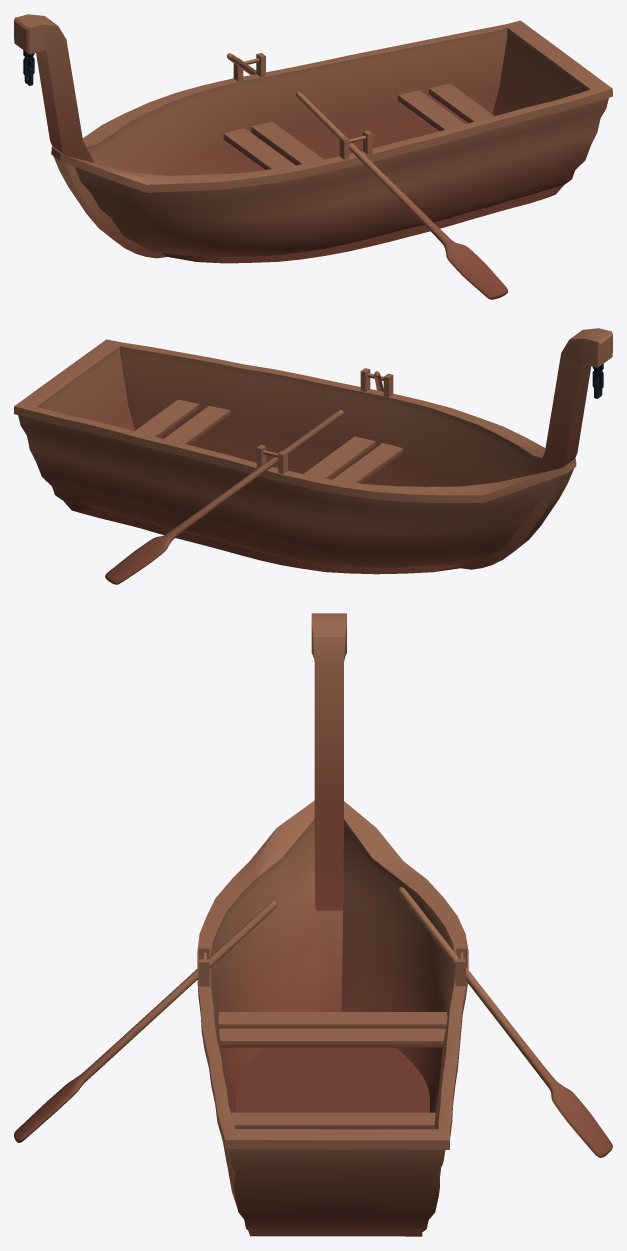
Rendered from Boat1.fbx.
The picture shows the model from 3 angles, top to bottom: view 1: azimuth 30°, elevation 25°; view 2: azimuth 150°, elevation 25°; view 3: azimuth 270°, elevation 25°; orthographic projection. The views are drawn at different scales.
Visible parts, largest first — view 1: Cube.001; view 2: Cube.001; view 3: Cube.001.
Part boxes in pixels (bbox=[...]): Cube.001: bbox=[14, 14, 612, 299]; Cube.001: bbox=[14, 328, 612, 584]; Cube.001: bbox=[14, 613, 612, 1236].
Size of the model in its own units: 1067 by 501 by 831.
